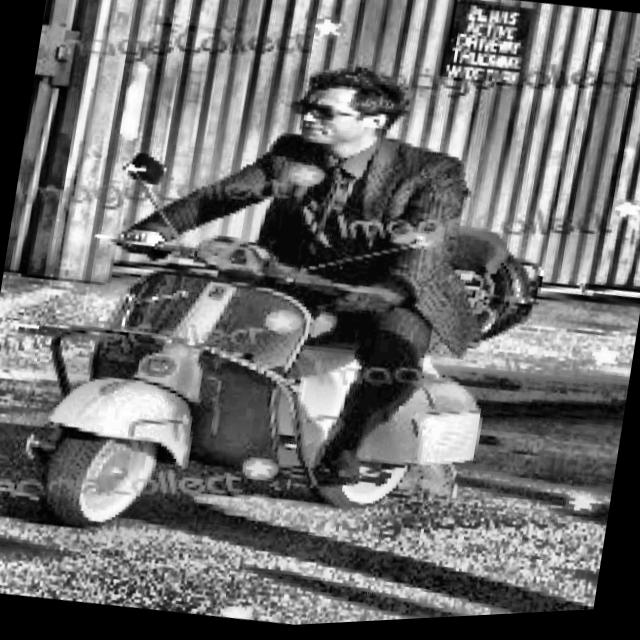motorcycle: (1, 119, 552, 595)
